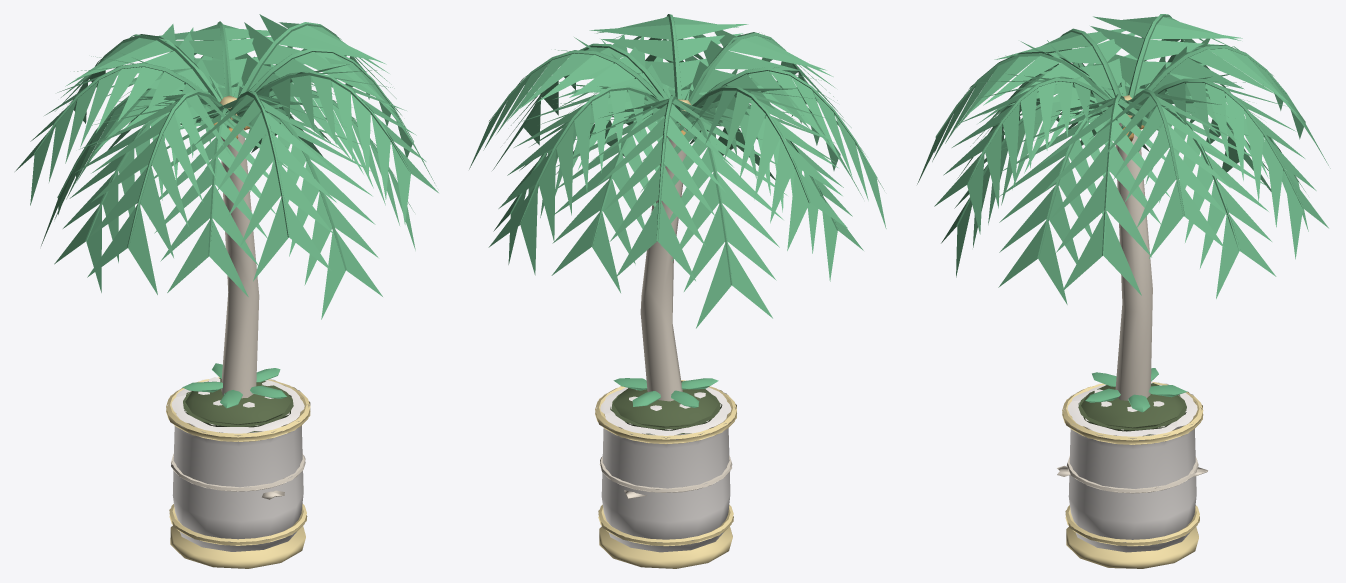
Rendered from lite_palm_planter_lux.glb.
The picture shows the model from 3 angles, left to right: view 1: azimuth 30°, elevation 25°; view 2: azimuth 150°, elevation 25°; view 3: azimuth 270°, elevation 25°; orthographic projection. The views are drawn at different scales.
Visible parts, largest first — view 1: palm_planter_lux; view 2: palm_planter_lux; view 3: palm_planter_lux.
Boxes of the visible parts, box(x1,y1,x2,y2) form: palm_planter_lux: box(15, 14, 438, 568); palm_planter_lux: box(469, 14, 886, 568); palm_planter_lux: box(917, 14, 1330, 568).
Size of the model in its own units: 3.23 by 4.08 by 3.21.
